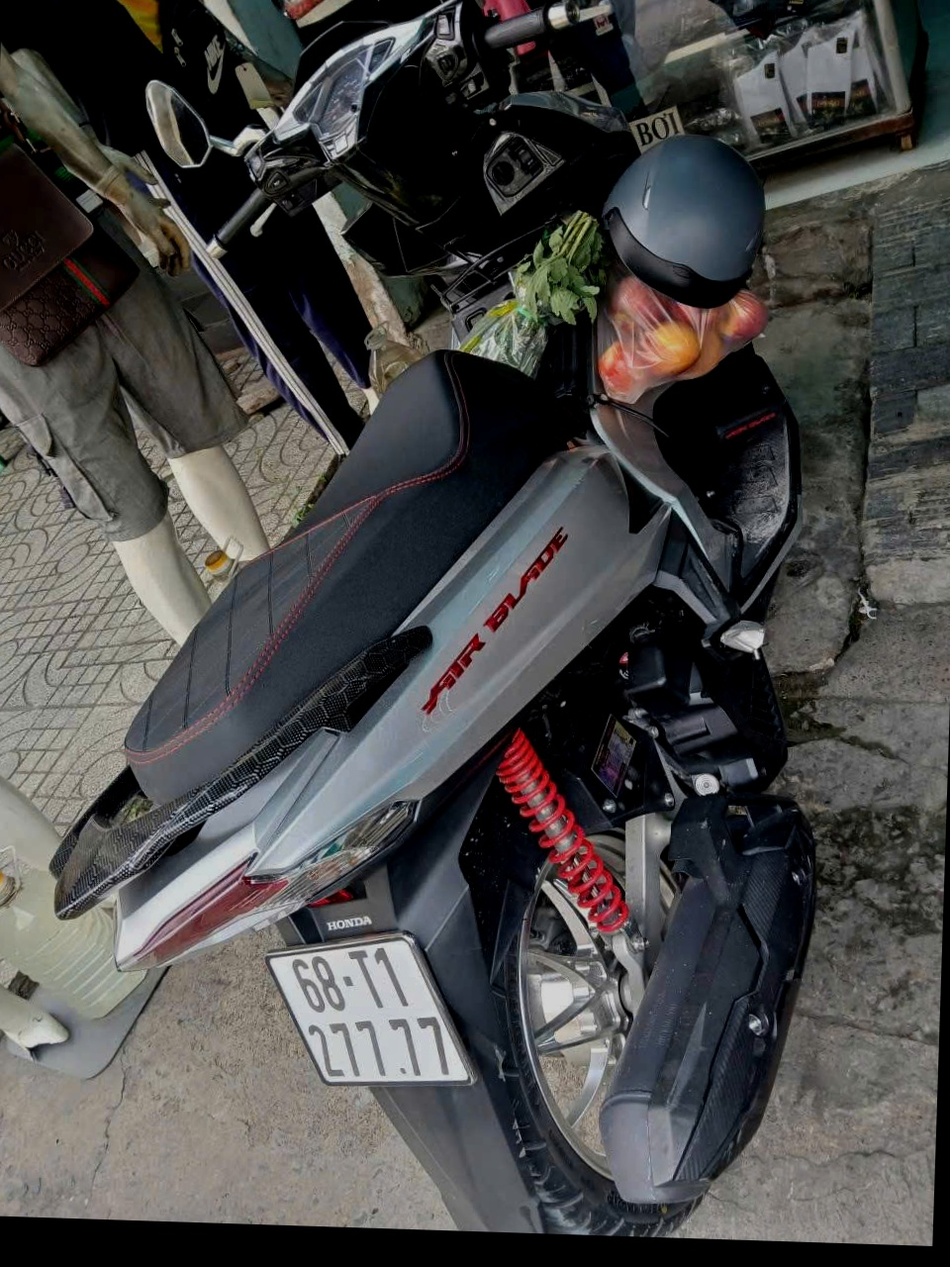Bien-so: (258, 923, 492, 1092)
